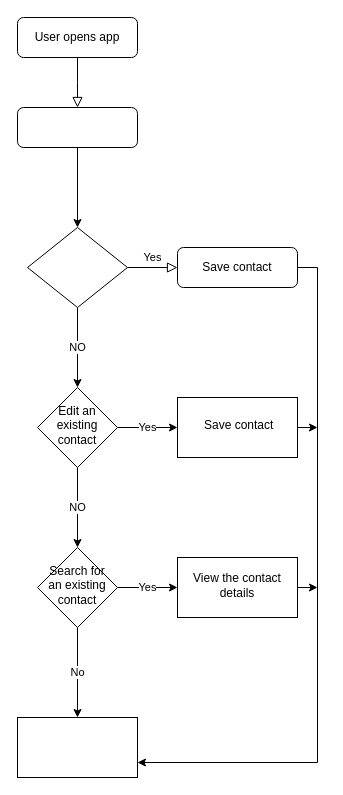
Image size: 343x795. Some labels were removed from this diagram. Each missing label, with the centre of its shape:
"Add to contacts" belongs at point 77,267.
"Exit" belongs at point 77,747.
"User view contacts" belongs at point 77,127.
